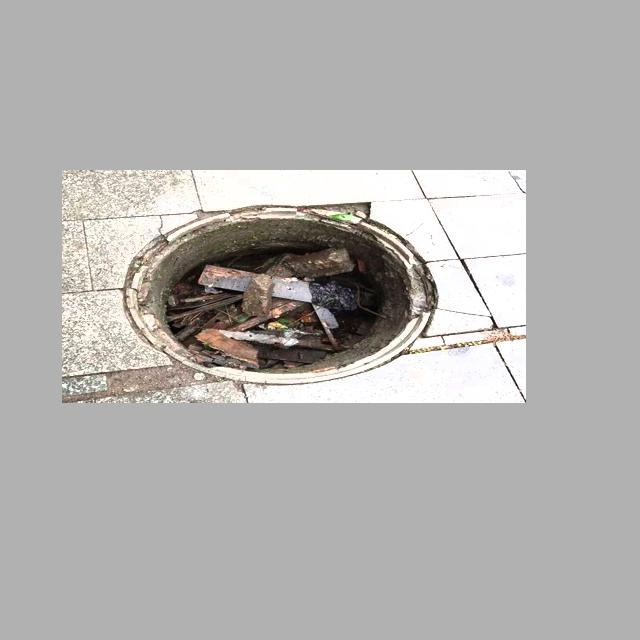lose: (119, 208, 441, 384)
